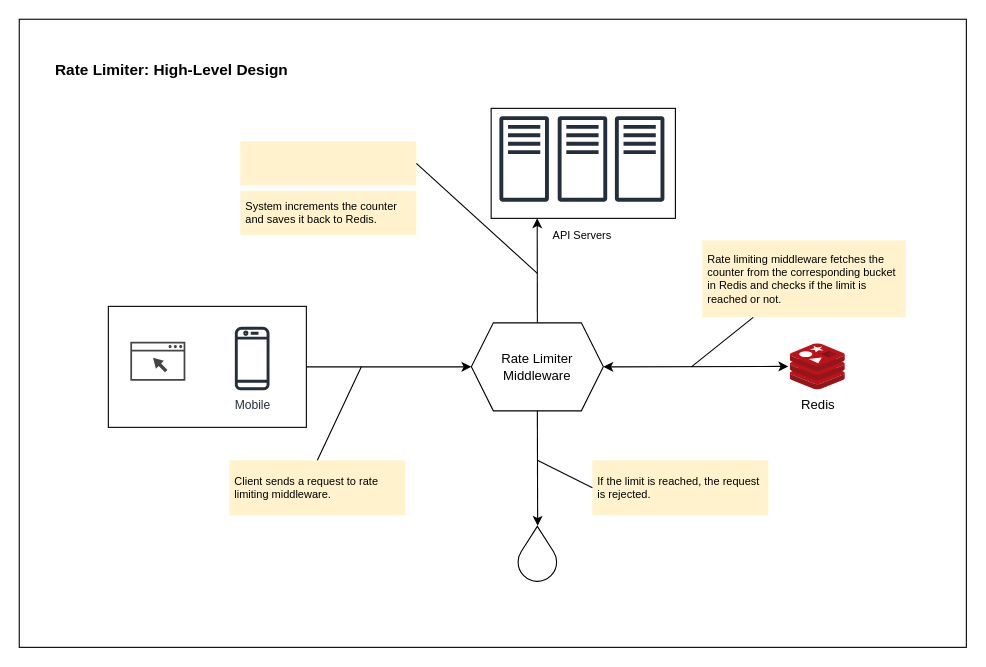
This 986x667 diagram has some shape labels left out. Each missing label, with the centre of its shape:
Browser: point 157,360
If the limit is not reached, the request is sent to the API servers.: point 328,163
Request Dropped: point 537,553
